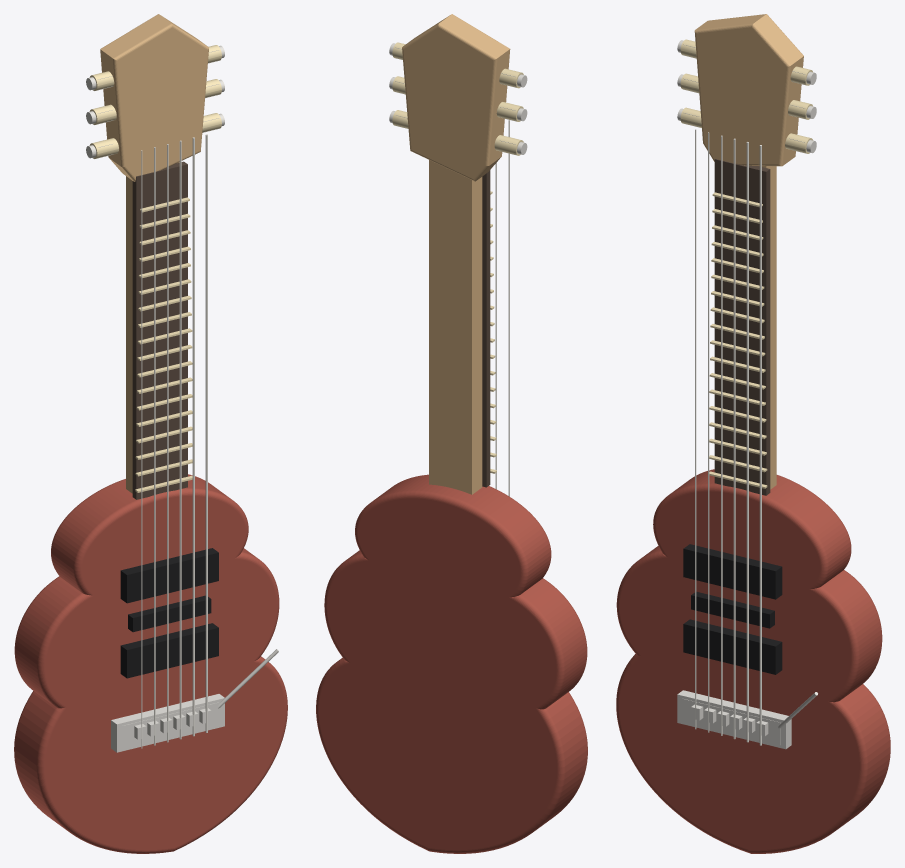
Rendered from ramos-modular-guitar.gltf.
3 views of the same model, side by side, from view 1: azimuth 30°, elevation 25°; view 2: azimuth 150°, elevation 25°; view 3: azimuth 330°, elevation 25° (orthographic).
Parts seen in each view (by area): view 1: body, fretboard, headstock, pickup_bridge_active, pickup_neck_active, neck, string_5, string_4, string_6, bridge_tremolo, pickup_middle_single, bridge_hardtail (+3 smaller); view 2: body, neck, headstock, fretboard, string_1, string_2; view 3: body, fretboard, headstock, pickup_neck_active, pickup_bridge_active, neck, string_4, string_5, string_6, bridge_tremolo, pickup_middle_single, bridge_hardtail (+3 smaller).
Boxes of the visible parts, bbox=[...] form: body: bbox=[14, 474, 287, 853]; fretboard: bbox=[132, 161, 187, 499]; headstock: bbox=[100, 14, 208, 181]; pickup_bridge_active: bbox=[120, 623, 218, 678]; pickup_neck_active: bbox=[120, 548, 218, 603]; neck: bbox=[126, 162, 179, 493]; string_5: bbox=[192, 137, 194, 736]; string_4: bbox=[179, 140, 181, 739]; string_6: bbox=[205, 134, 207, 732]; bridge_tremolo: bbox=[111, 694, 224, 752]; pickup_middle_single: bbox=[128, 595, 211, 632]; bridge_hardtail: bbox=[122, 702, 219, 748]; body: bbox=[316, 474, 587, 853]; neck: bbox=[429, 160, 482, 494]; headstock: bbox=[402, 14, 510, 181]; fretboard: bbox=[482, 170, 490, 487]; string_1: bbox=[508, 120, 509, 496]; string_2: bbox=[495, 162, 496, 489]; body: bbox=[616, 469, 890, 853]; fretboard: bbox=[714, 159, 770, 495]; headstock: bbox=[694, 14, 803, 166]; pickup_neck_active: bbox=[683, 544, 782, 599]; pickup_bridge_active: bbox=[683, 619, 782, 674]; neck: bbox=[759, 166, 776, 489]; string_4: bbox=[733, 138, 735, 739]; string_5: bbox=[746, 142, 748, 742]; string_6: bbox=[759, 145, 761, 745]; bridge_tremolo: bbox=[677, 690, 791, 749]; pickup_middle_single: bbox=[691, 591, 774, 628]; bridge_hardtail: bbox=[682, 699, 780, 745].
Bounding box in the file's own units: 1.85 × 5.84 × 0.5995.
